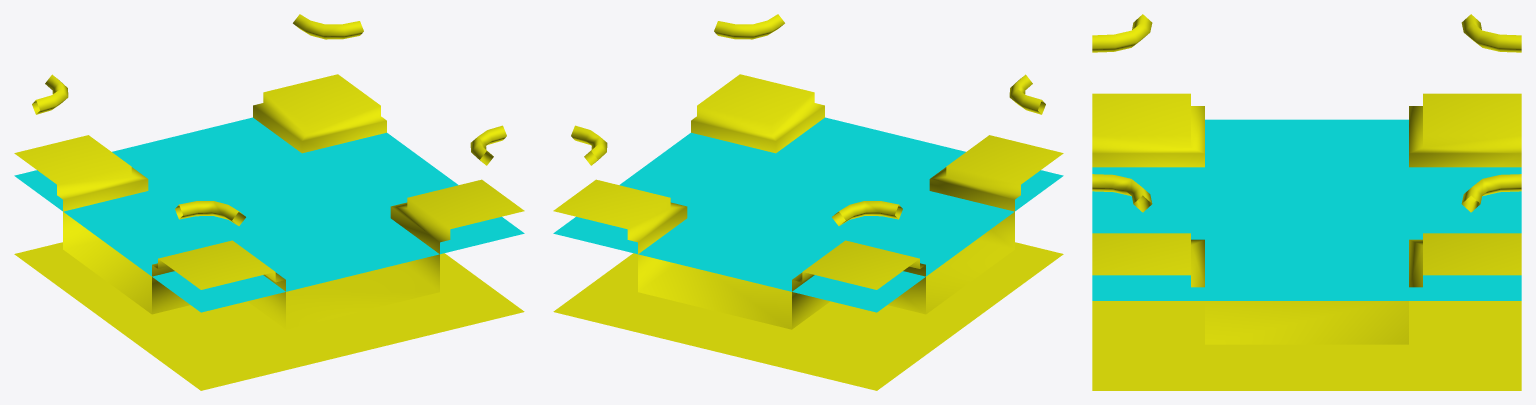
Rendered from CrossPiece.fbx.
The picture shows the model from 3 angles, left to right: view 1: azimuth 30°, elevation 25°; view 2: azimuth 150°, elevation 25°; view 3: azimuth 270°, elevation 25°; orthographic projection. The views are drawn at different scales.
Parts seen in each view (by area): view 1: CrossPiece_geo; view 2: CrossPiece_geo; view 3: CrossPiece_geo.
Part boxes in pixels (bbox=[...]): CrossPiece_geo: bbox=[14, 14, 524, 390]; CrossPiece_geo: bbox=[553, 14, 1063, 390]; CrossPiece_geo: bbox=[1092, 14, 1521, 390].
Size of the model in its own units: 171 by 85.93 by 171.
